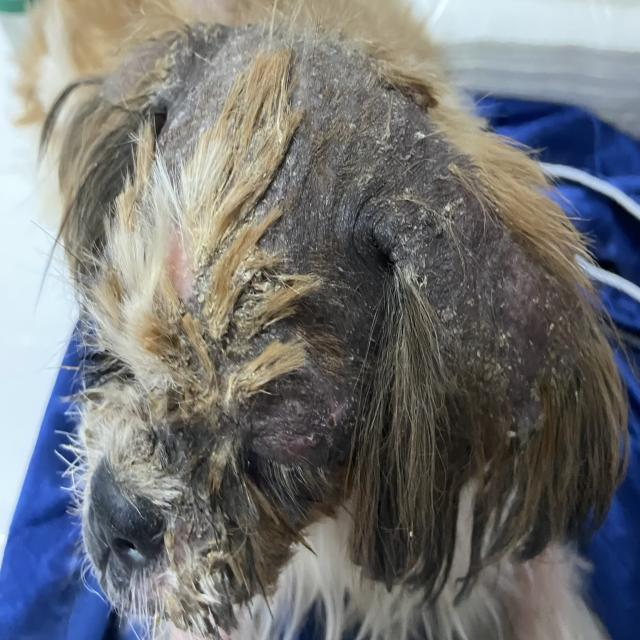demodicosis: (274, 32, 389, 288), (399, 212, 566, 384), (153, 40, 231, 134)
